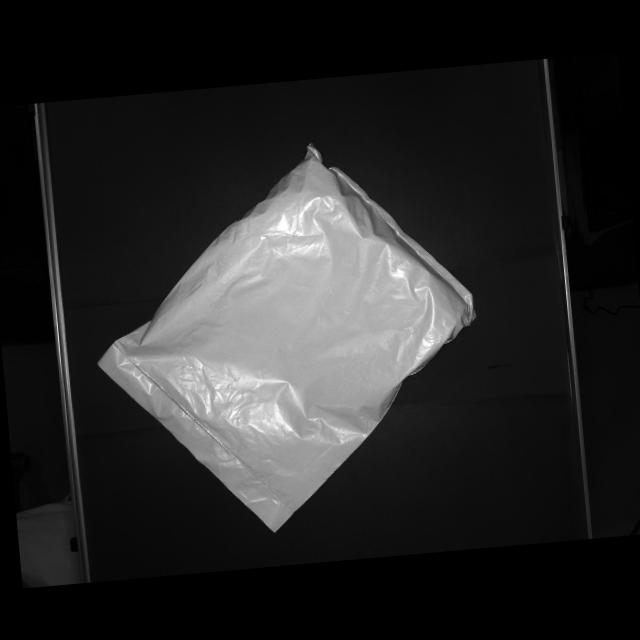mailer: (78, 133, 494, 552)
